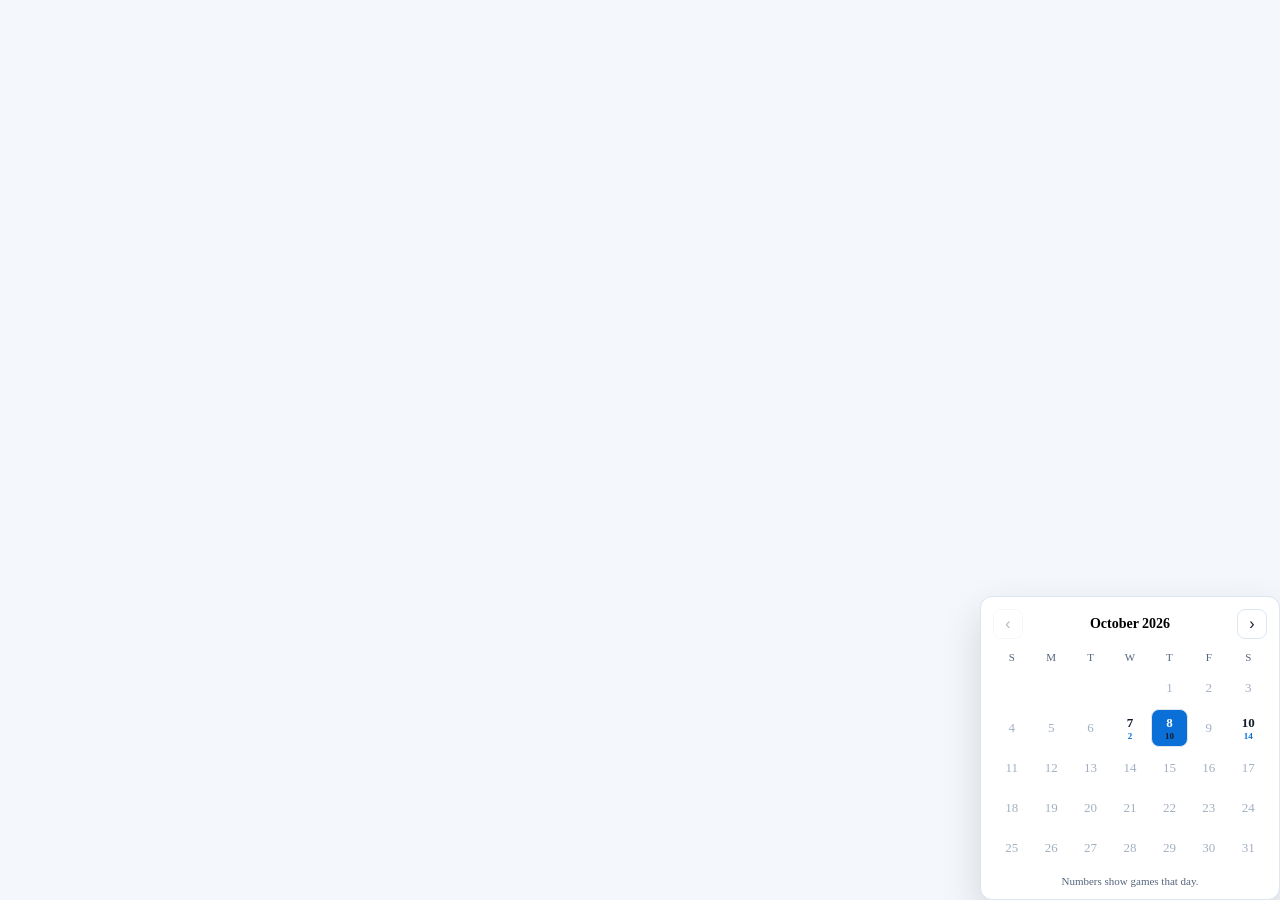
Test: GameCalendar › stops month navigation at the start of the season
(page scrolled)
expect the text "Numbers show games that day." is shown: met, box top-left (1062, 875), bottom-right (1199, 887)
expect the button named "Previous month" is disabled: met, box top-left (993, 609), bottom-right (1023, 639)
What coordinates should you click on to do the following:
click the button named "Next month"
I would click on:
 (1252, 624)
Its box is top-left (1237, 609), bottom-right (1267, 639).
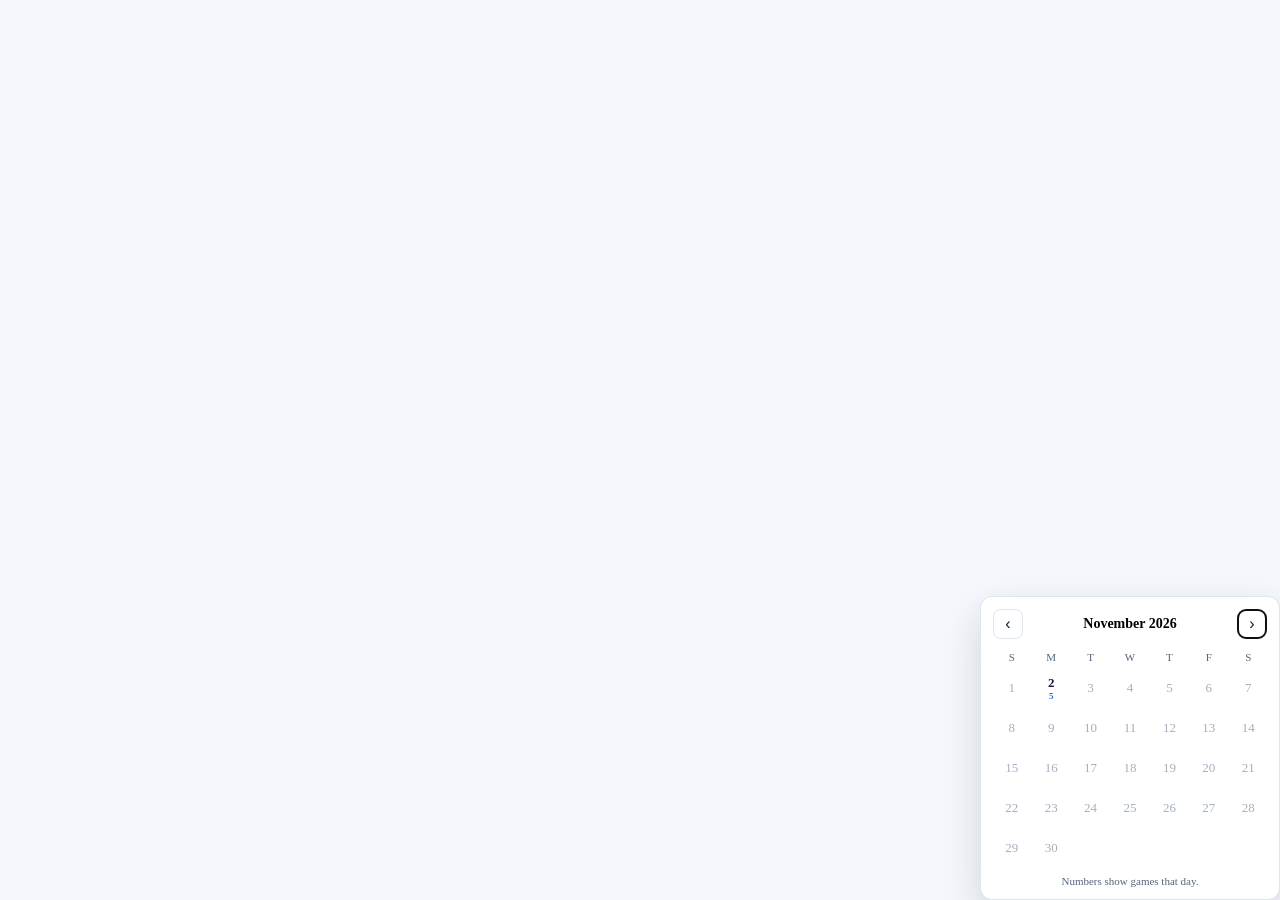
expect the text "November 2026" is shown: met, box top-left (1083, 616), bottom-right (1177, 632)
